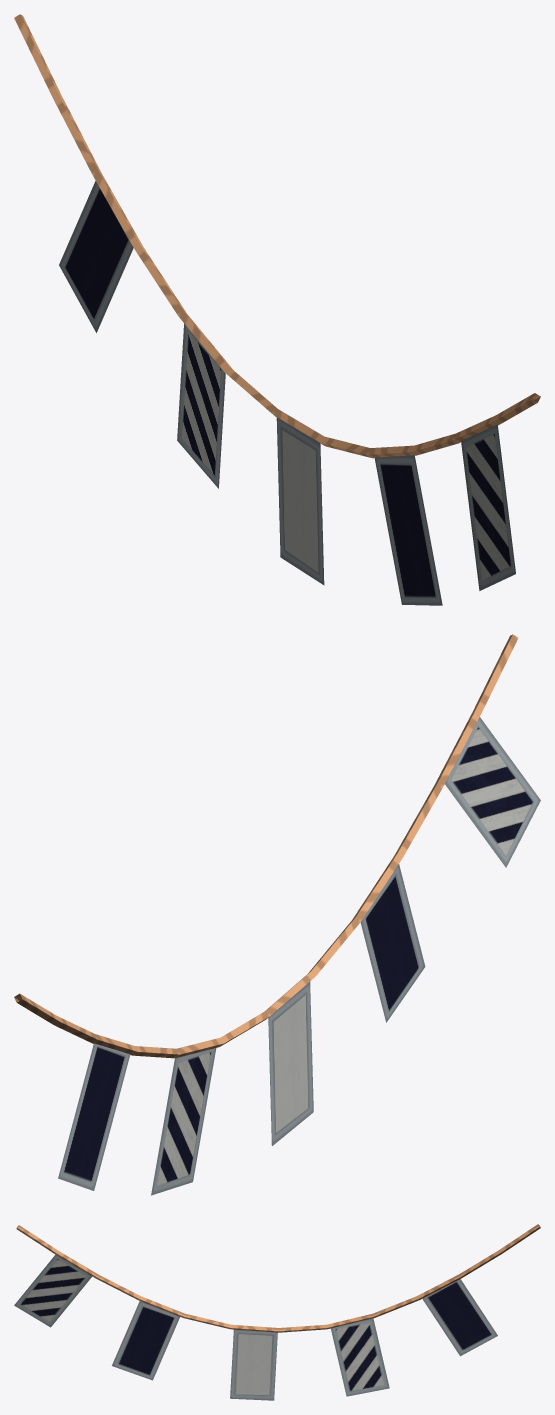
The model's file is Small_flags_1.fbx.
The picture shows the model from 3 angles, top to bottom: view 1: azimuth 30°, elevation 25°; view 2: azimuth 150°, elevation 25°; view 3: azimuth 270°, elevation 25°; orthographic projection. The views are drawn at different scales.
Parts seen in each view (by area): view 1: pCube26; view 2: pCube26; view 3: pCube26.
Boxes of the visible parts, bbox=[...] form: pCube26: bbox=[14, 14, 540, 605]; pCube26: bbox=[14, 634, 540, 1195]; pCube26: bbox=[14, 1224, 540, 1400].
Bounding box in the file's own units: 7.64 × 74.81 × 202.
